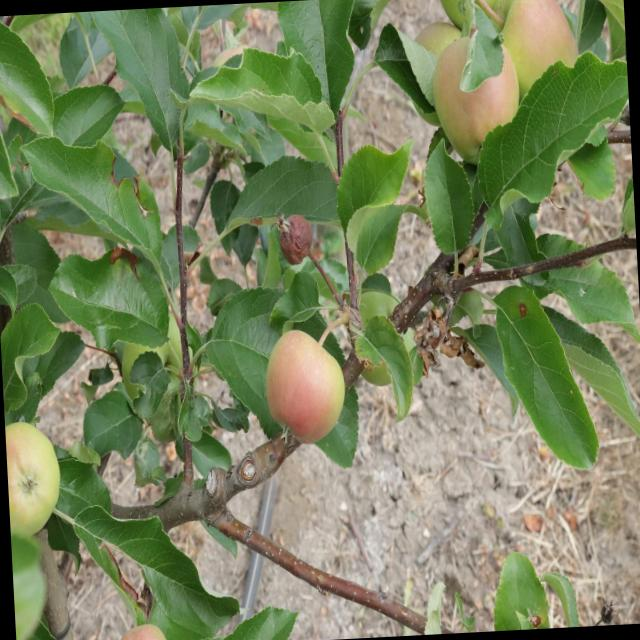-FireBlight-: (408, 300, 483, 375)
